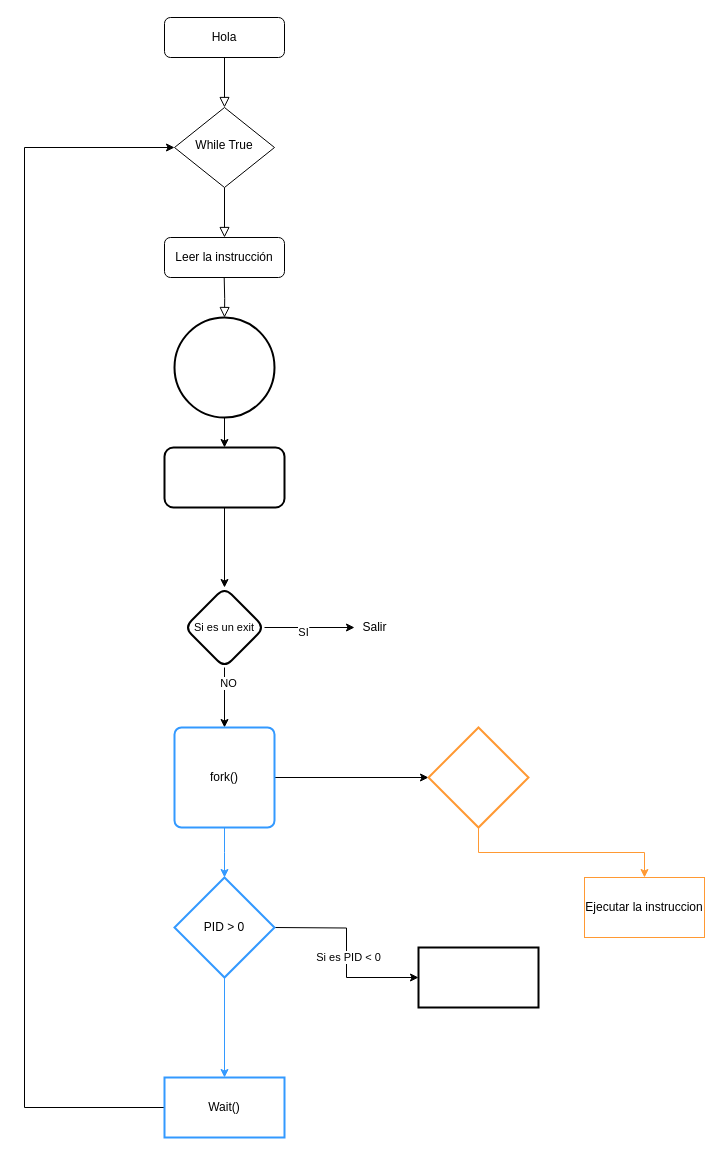
Image size: 722x1156. Some labels were removed from this diagram. Here are the shapes that lost their labels. From the top down, the centre of each, then its label:
the point at 224,367: Dividimos la instrucción
the point at 224,477: Comprobar que tipo de instrucción es
the point at 478,777: PID == 0
the point at 478,977: Error
